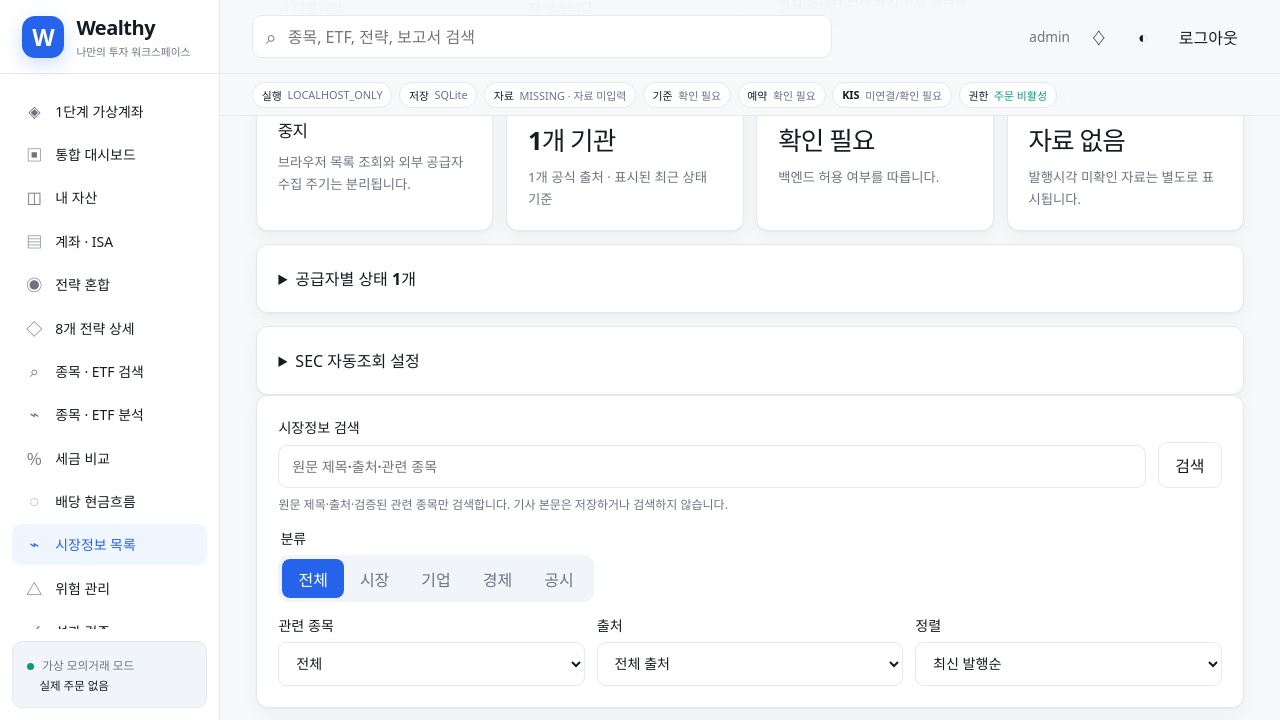
it: 미국 시장정보 화면 › 시장정보 설정도 백엔드가 확인한 보안 저장소 사용 불가만 표시한다
The image size is (1280, 720).
(page scrolled)
Click the heading "SEC 자동조회 설정": (358, 361) [295, 350, 420, 372]
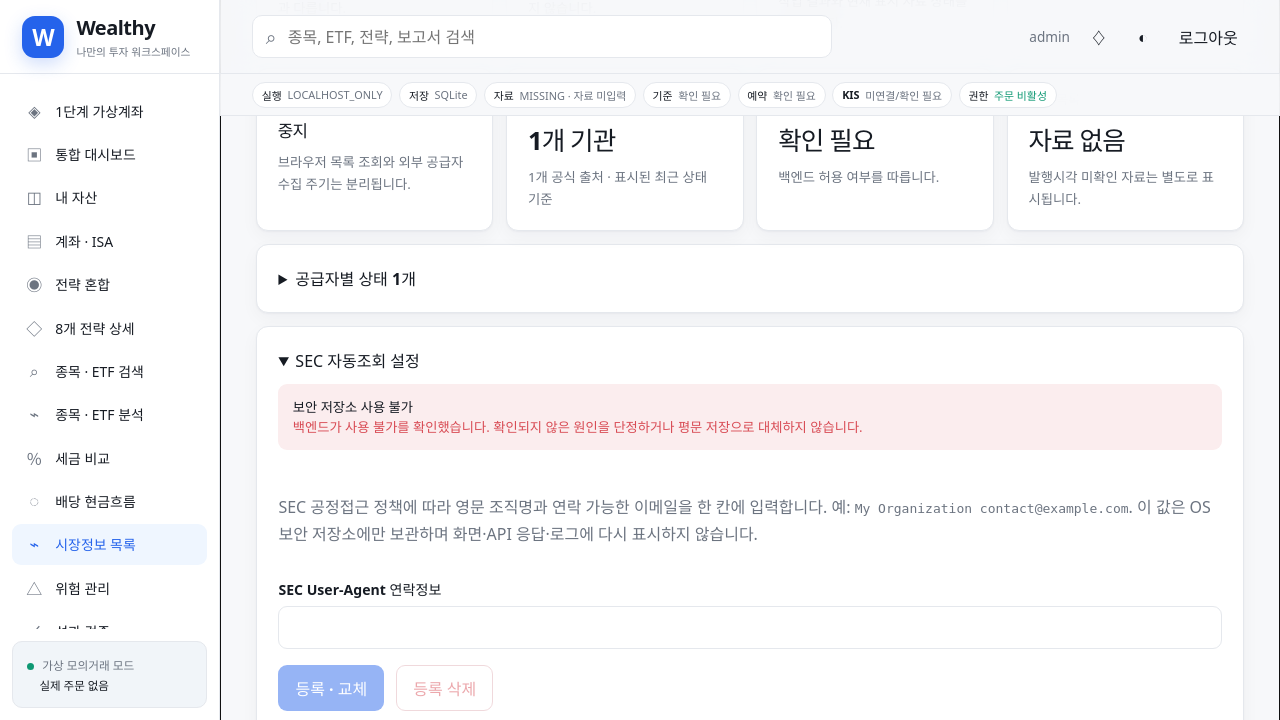
Expected: the text "보안 저장소 사용 불가" is shown, [293, 398, 413, 416]
Expected: the text "확인되지 않은 원인을 단정하거나" is shown, [293, 418, 863, 436]
Expected: the password field labelled "SEC User-Agent 연락정보" is disabled, [278, 606, 1222, 649]
